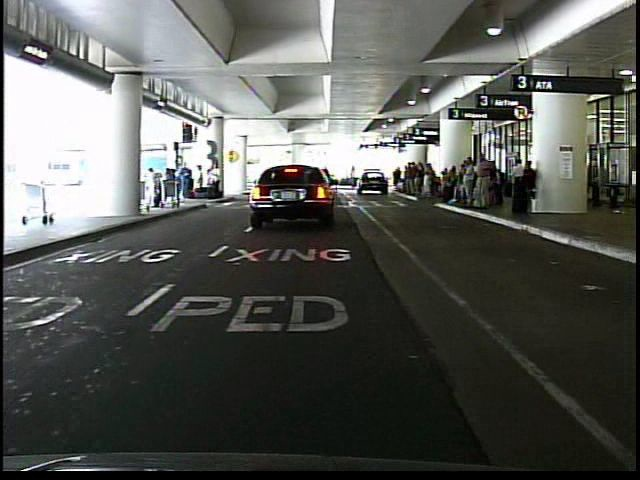person: (469, 148, 492, 213), (142, 165, 162, 220), (190, 162, 207, 202)
